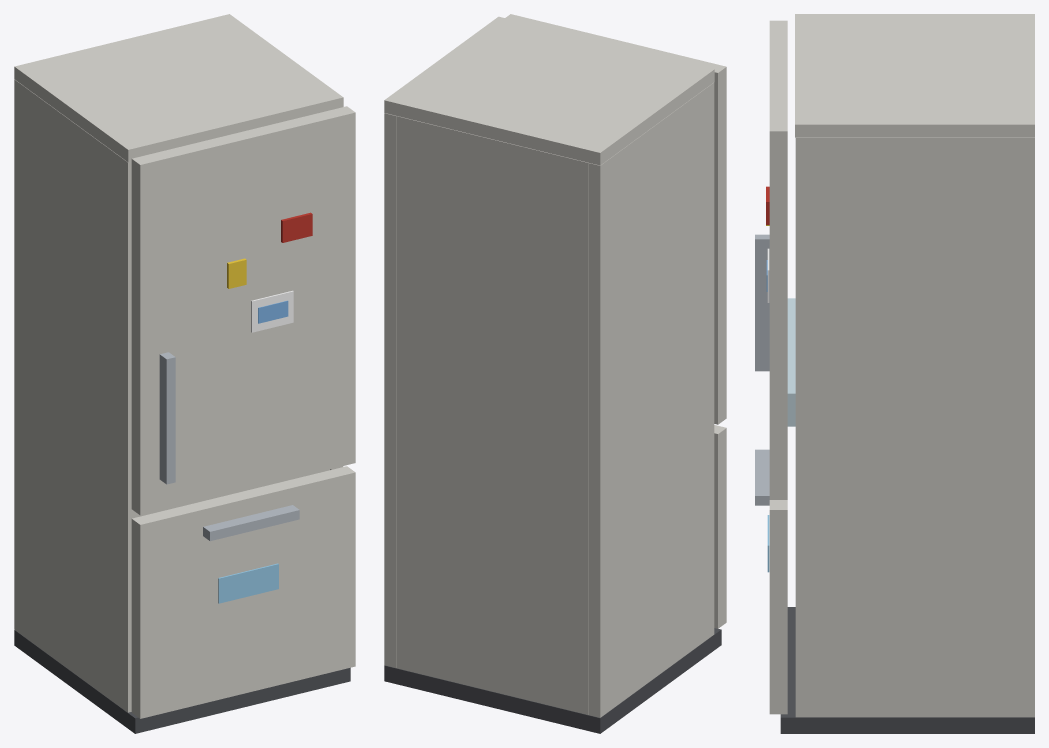
The model's file is fridge.fbx.
The picture shows the model from 3 angles, left to right: view 1: azimuth 30°, elevation 25°; view 2: azimuth 150°, elevation 25°; view 3: azimuth 270°, elevation 25°; orthographic projection. The views are drawn at different scales.
Visible parts, largest first — view 1: fridge, MECH_fridgeDoor, MECH_freezerDoor; view 2: fridge, MECH_fridgeDoor, MECH_freezerDoor; view 3: fridge, MECH_fridgeDoor, MECH_freezerDoor.
Boxes of the visible parts, box(x1,y1,x2,y2) form: fridge: box(14, 14, 350, 733); MECH_fridgeDoor: box(131, 106, 355, 515); MECH_freezerDoor: box(131, 466, 355, 718); fridge: box(384, 16, 721, 733); MECH_fridgeDoor: box(505, 14, 726, 424); MECH_freezerDoor: box(714, 425, 726, 628); fridge: box(780, 14, 1034, 733); MECH_fridgeDoor: box(755, 20, 795, 499); MECH_freezerDoor: box(755, 449, 787, 714).
Size of the model in its own units: 2.88 by 7.4 by 3.08.
